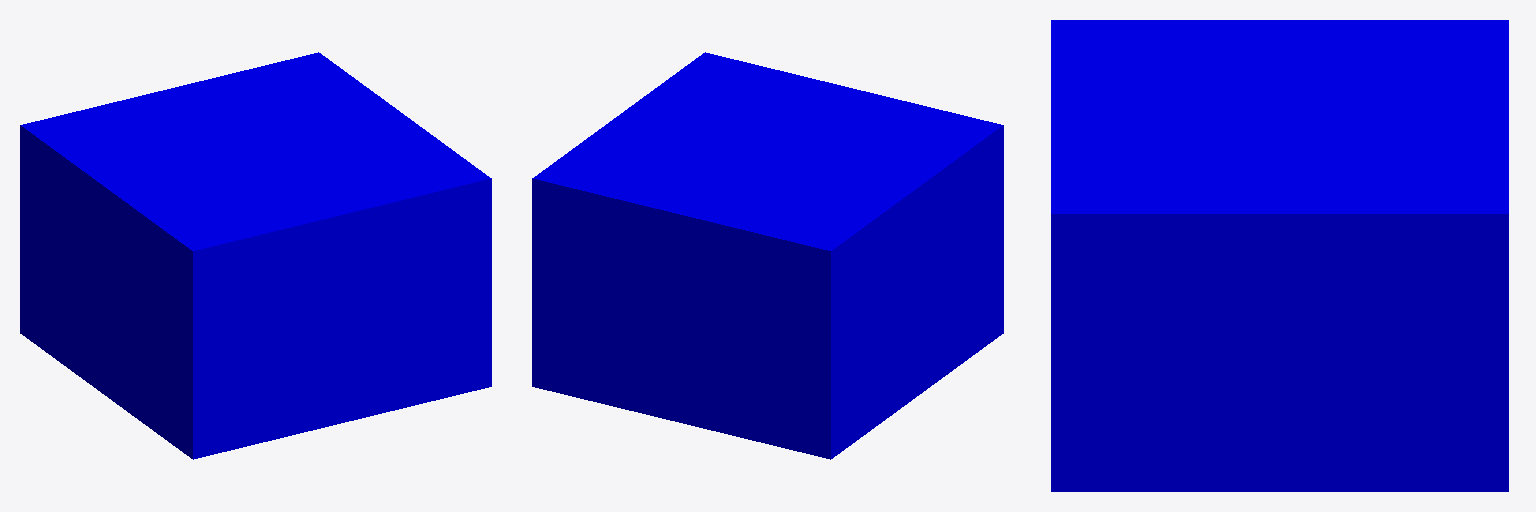
The robot description file, URDF, robot "cubeDE3":
<?xml version="1.0"?>
<robot name="cubeDE3">
	<link name="base">
	<inertial>
        	 <origin xyz="0 0 0" rpy="0 0 0"/>
        	 <mass value="0.5"/>
        	 <inertia ixx="0.000683333"  ixy="0"  ixz="0" iyy="0.000683333" iyz="0" izz="0.000683333" />
       </inertial>
		<visual>
			<origin xyz="0 0 0" rpy="0 0 0" />
			<geometry>
				<box size="0.03 0.03 0.02" />
			</geometry>
			<material>
				<color rgba="0 0 1 1" />
			</material>
		</visual>
		<collision>
			<origin xyz="0 0 0" rpy="0 0 0" />
			<material>
				<color rgba="0 0 1 1" />
			</material>
			<geometry>
				<box size="0.03 0.03 0.02" />
			</geometry>
			
		</collision>
	</link>
</robot>

--- Render facts (derived) ---
3 views of the same robot in one strip: view 1: azimuth 30°, elevation 25°; view 2: azimuth 150°, elevation 25°; view 3: azimuth 270°, elevation 25° (orthographic).
Model cubeDE3 with 1 links and 0 joints (none), rooted at base, posed every joint at zero.
Visible links, largest first — view 1: base; view 2: base; view 3: base.
Link boxes in pixels (x1,y1,x2,y2): base: [20, 52, 491, 459]; base: [532, 52, 1003, 459]; base: [1051, 20, 1508, 491].
Size in the robot's own frame: 0.03 by 0.03 by 0.02 metres.
Geometry: primitives only (box / cylinder / sphere), no mesh files.
